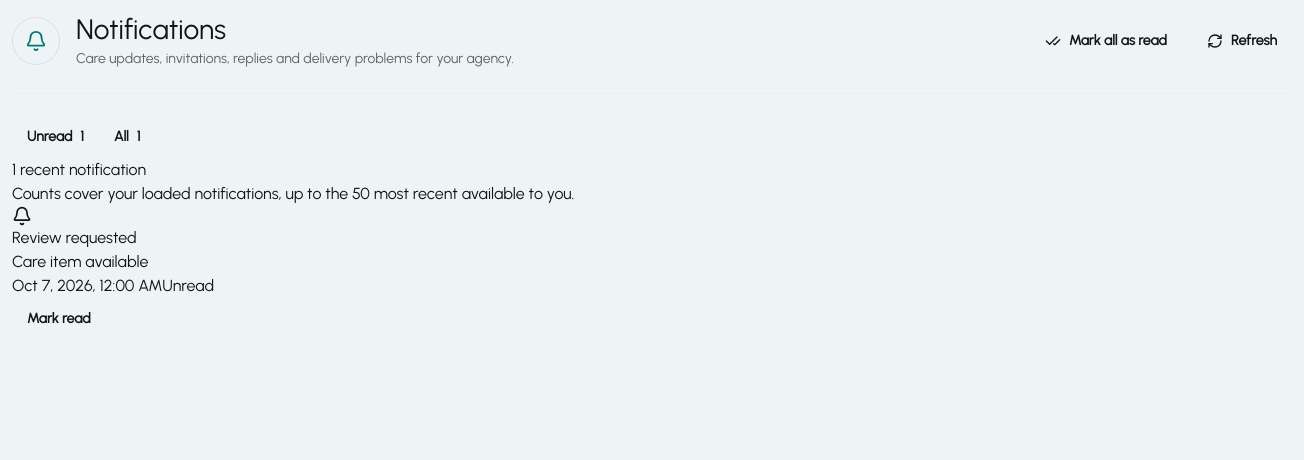
Scenario: shows a purposeful first-use empty state and retains failed read feedback
The image size is (1304, 460).
Later steps or results of the test are not shown.
Click the button with aria-label "Mark read: Review requested": (59, 319) top-left (12, 298), bottom-right (106, 340)
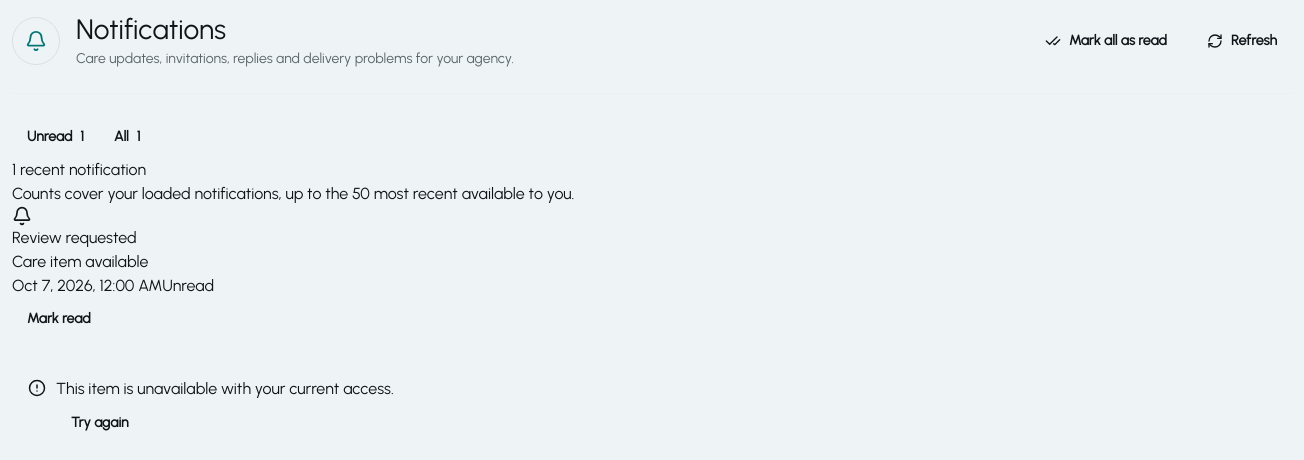
Expected: the element "Review requested" is shown, top-left (12, 206), bottom-right (214, 340)
Now the message "This item is unavailable with your current access. Try again" is shown, box top-left (28, 379), bottom-right (394, 444)
